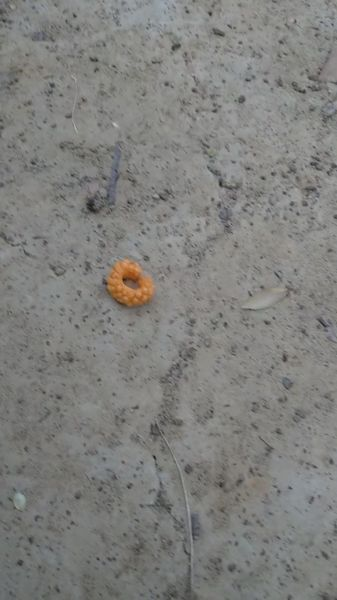eggs: (105, 253, 158, 319)
